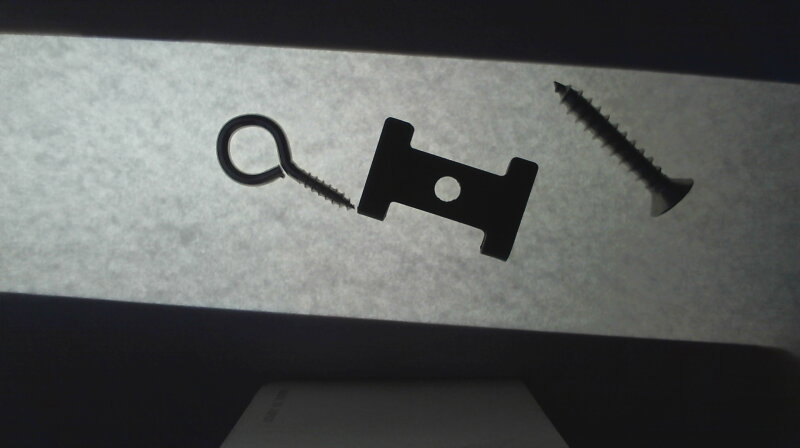O001: (214, 111, 355, 211)
O002: (358, 115, 537, 261)
S001: (550, 79, 695, 217)
